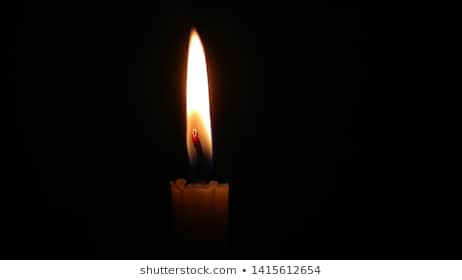Fire: (172, 21, 213, 163)
